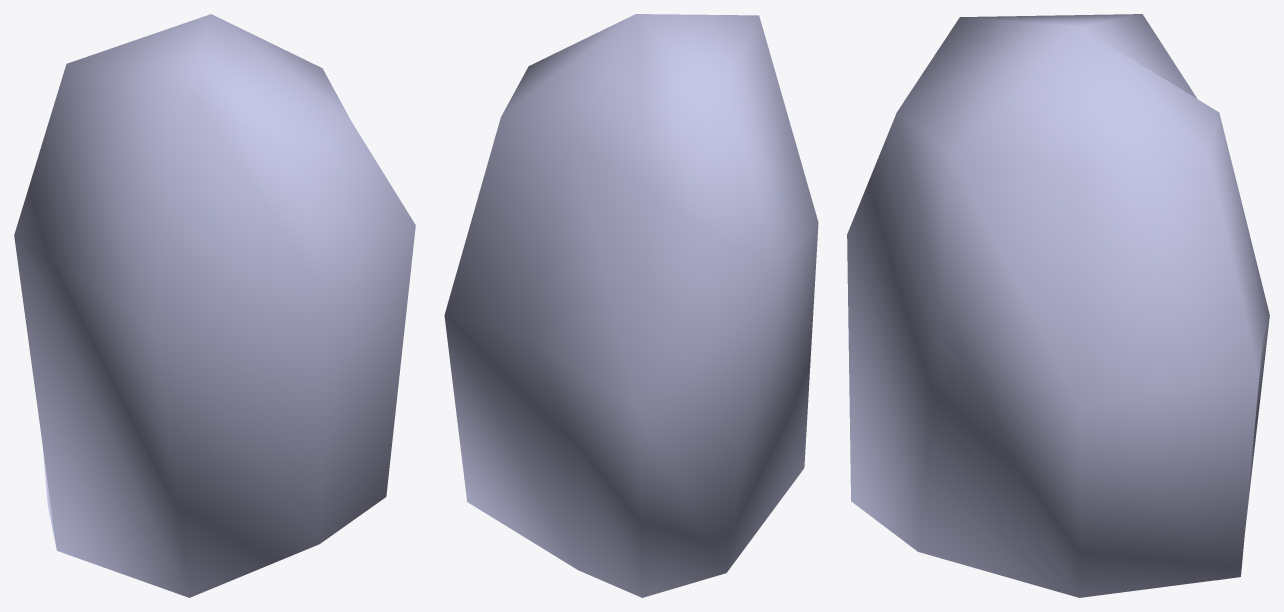
The picture shows the model from 3 angles, left to right: view 1: azimuth 30°, elevation 25°; view 2: azimuth 150°, elevation 25°; view 3: azimuth 270°, elevation 25°; orthographic projection. The views are drawn at different scales.
Visible parts, largest first — view 1: Object24; view 2: Object24; view 3: Object24.
Boxes of the visible parts, left/top/right/bottom form: Object24: left=14, top=14, right=415, bottom=597; Object24: left=444, top=14, right=818, bottom=597; Object24: left=847, top=14, right=1269, bottom=597.
Bounding box in the file's own units: 134 × 202 × 139.
